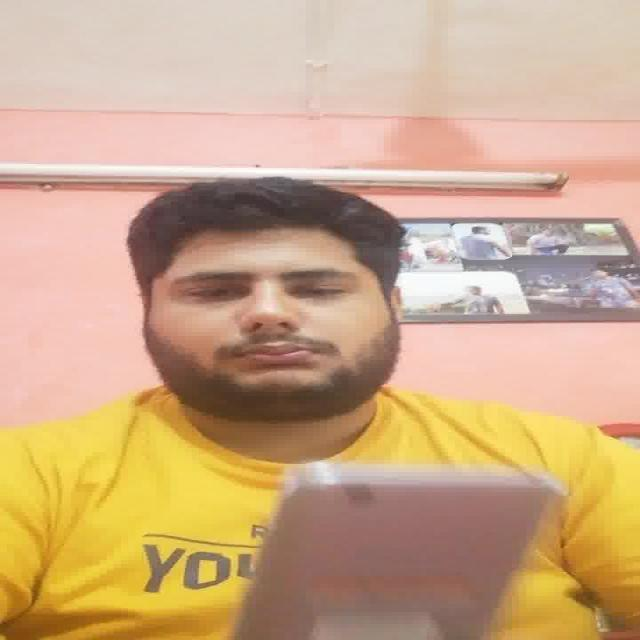Phone: (224, 464, 556, 640)
